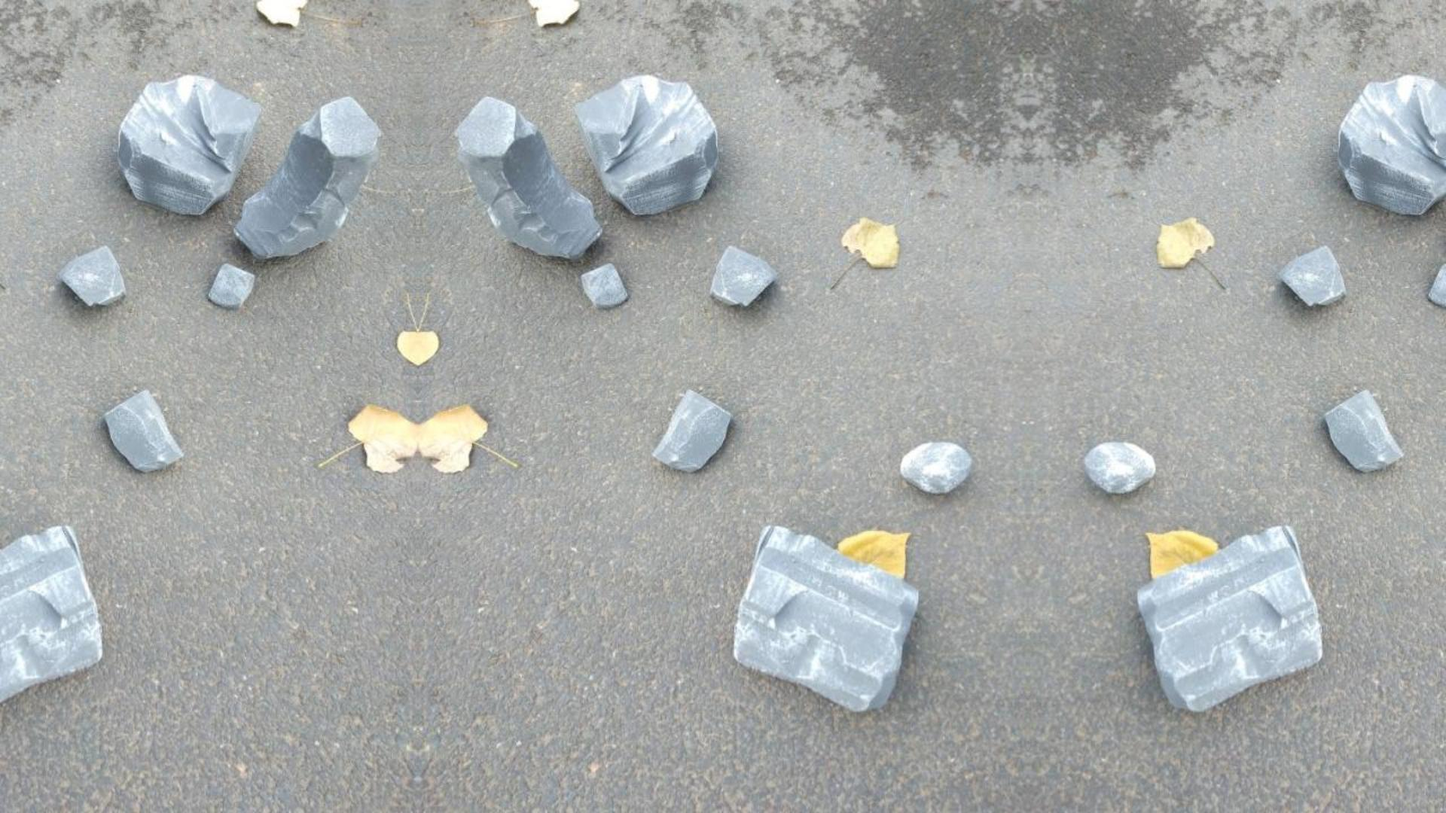rock: (734, 526, 917, 710), (1138, 526, 1321, 710), (456, 97, 601, 257), (235, 97, 380, 257), (575, 76, 717, 213), (119, 75, 259, 213), (0, 526, 101, 700), (1339, 75, 1445, 213), (104, 390, 183, 470), (1324, 390, 1403, 470), (652, 391, 730, 470), (709, 245, 776, 305), (59, 245, 124, 305), (1280, 245, 1344, 305), (1083, 442, 1155, 492), (900, 442, 970, 492), (580, 264, 628, 307), (207, 264, 255, 307), (1427, 263, 1445, 306)
